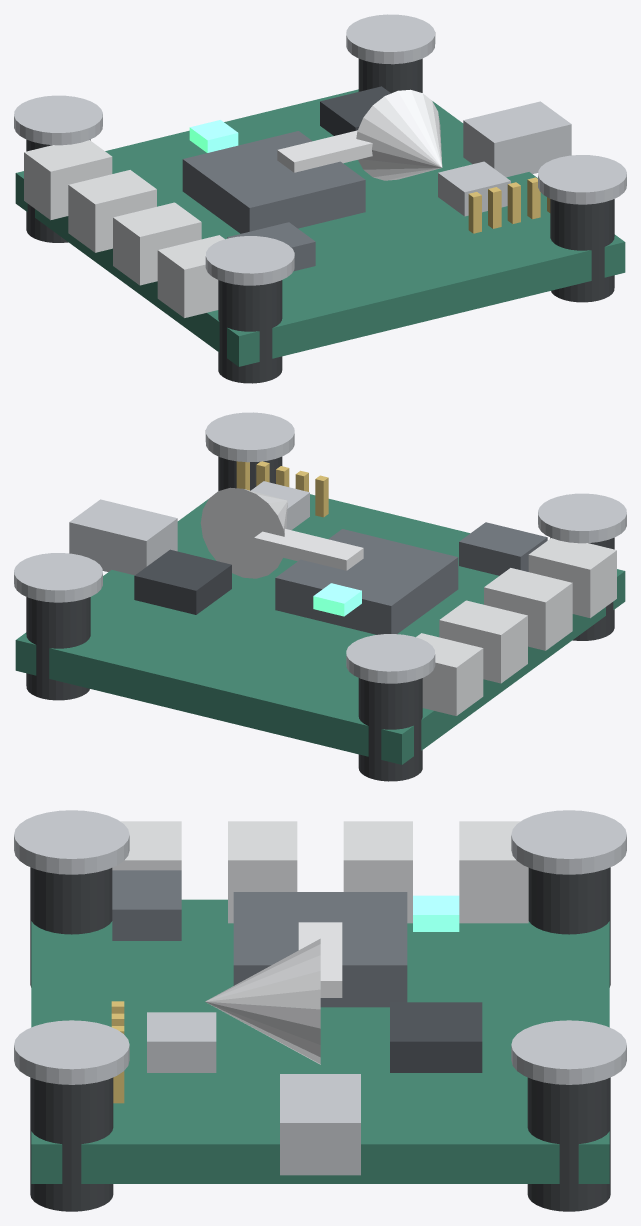
3 views of the same model, one above another, from view 1: azimuth 30°, elevation 25°; view 2: azimuth 150°, elevation 25°; view 3: azimuth 270°, elevation 25° (orthographic). The views are drawn at different scales.
Parts seen in each view (by area): view 1: pcb, mcu, arrow_tip, usb_shell, damper_0_1, jst_2, jst_1, jst_0, damper_1_1, jst_3, washer_0_1, washer_1_0 (+13 smaller); view 2: pcb, mcu, usb_shell, arrow_tip, damper_0_0, jst_1, jst_2, imu, jst_3, damper_1_0, jst_0, washer_0_0 (+10 smaller); view 3: pcb, mcu, usb_shell, damper_1_0, damper_1_1, arrow_tip, imu, jst_0, washer_0_0, washer_0_1, washer_1_0, washer_1_1 (+9 smaller).
Boxes of the visible parts, x1,y1,x2,y2 form: pcb: (15,89,625,366); mcu: (182,131,365,233); arrow_tip: (356,89,442,180); usb_shell: (463,101,571,177); damper_0_1: (218,280,282,383); jst_2: (113,202,201,285); jst_1: (68,170,156,252); jst_0: (24,140,112,220); damper_1_1: (550,199,614,302); jst_3: (157,235,224,317); washer_0_1: (205,236,294,285); washer_1_0: (346,14,435,64); pcb: (15,494,625,764); mcu: (275,529,458,634); usb_shell: (69,499,177,575); arrow_tip: (200,487,287,578); damper_0_0: (358,678,422,781); jst_1: (439,600,527,683); jst_2: (484,568,572,650); imu: (134,549,231,614); jst_3: (528,538,616,618); damper_1_0: (26,597,90,700); jst_0: (416,633,483,715); washer_0_0: (346,634,435,683); pcb: (31,899,609,1183); mcu: (233,892,407,1007); usb_shell: (280,1074,360,1175); damper_1_0: (527,1077,610,1211); damper_1_1: (30,1077,113,1211); arrow_tip: (205,938,320,1064); imu: (390,1002,482,1072); jst_0: (459,821,528,923); washer_0_0: (511,810,626,874); washer_0_1: (14,810,129,874); washer_1_0: (511,1020,626,1084); washer_1_1: (14,1020,129,1084).
Bounding box in the file's own units: 0.0585 × 0.0185 × 0.053.
